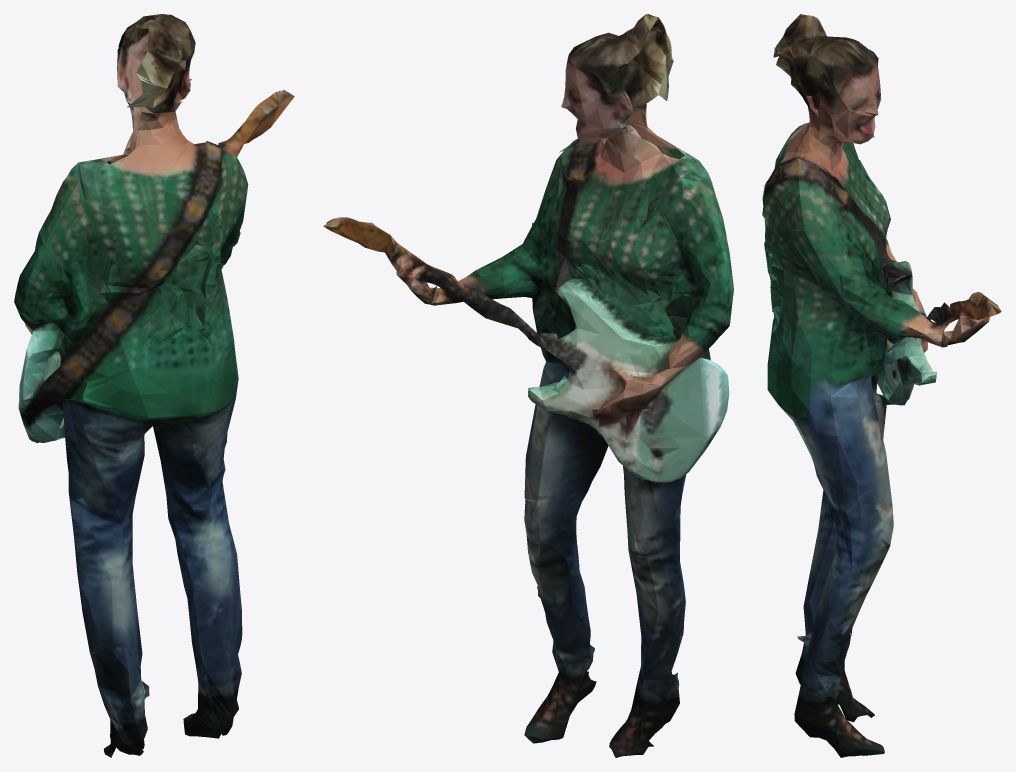
3 views of the same model, side by side, from view 1: azimuth 30°, elevation 25°; view 2: azimuth 150°, elevation 25°; view 3: azimuth 270°, elevation 25° (orthographic). The views are drawn at different scales.
Visible parts, largest first — view 1: dec_0015; view 2: dec_0015; view 3: dec_0015.
Part boxes in pixels (x1,y1,x2,y2): dec_0015: [14, 14, 294, 757]; dec_0015: [323, 14, 733, 757]; dec_0015: [762, 14, 1001, 757].
Size of the model in its own units: 0.8359 by 1.73 by 0.5311.
Materials: 1 (1 with a texture image).
